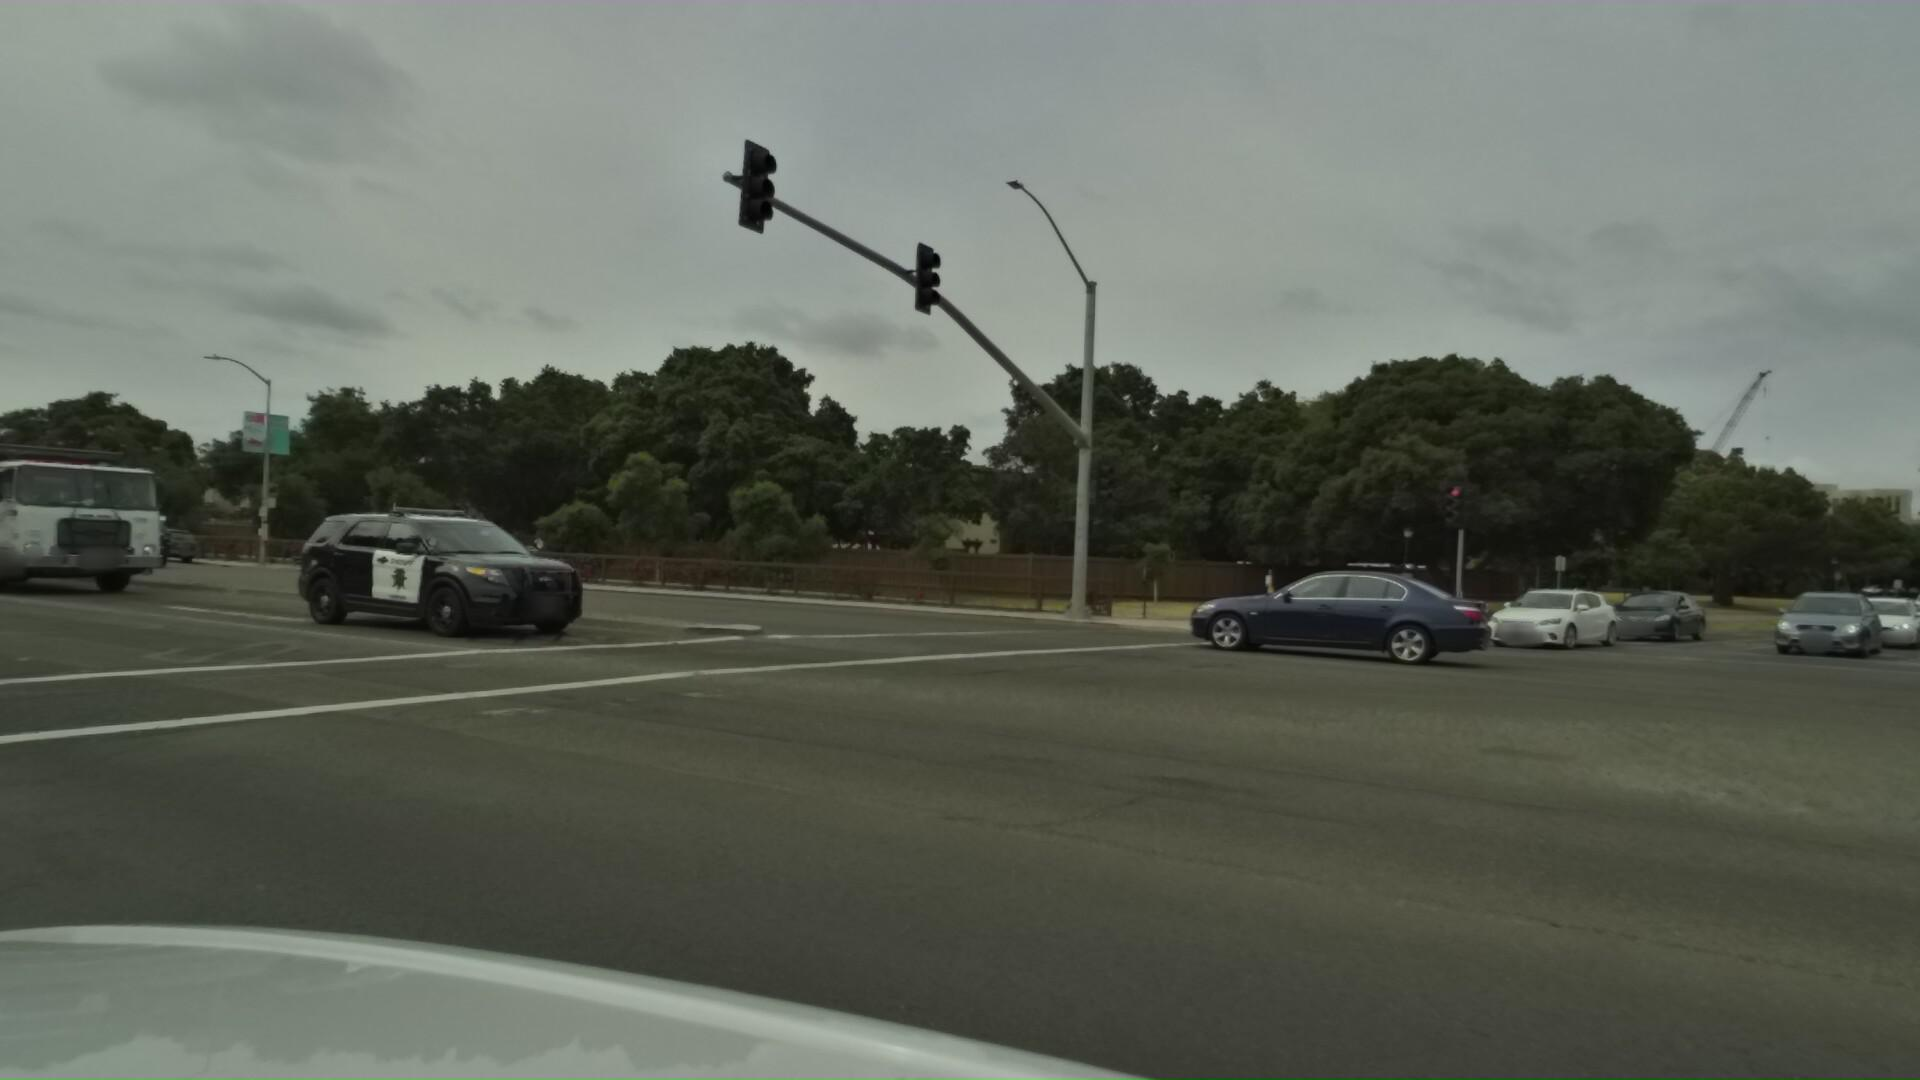car: (1110, 558, 1419, 669), (1436, 575, 1602, 655), (1722, 578, 1862, 657), (1793, 584, 1911, 657), (1567, 582, 1691, 642), (49, 510, 173, 566), (1832, 589, 1920, 647), (98, 526, 200, 568), (1867, 580, 1920, 642)
emergency_vehicle: (245, 502, 584, 647)
